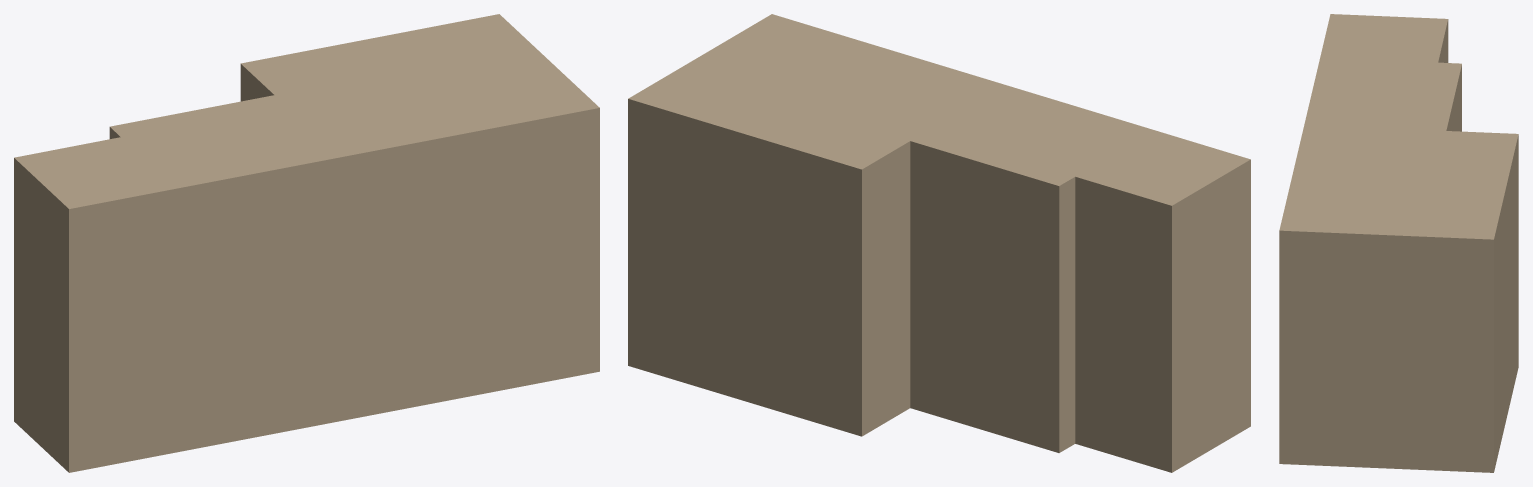
Rendered from bld_55879894.dae.
3 renders of one model, left to right at view 1: azimuth 30°, elevation 25°; view 2: azimuth 150°, elevation 25°; view 3: azimuth 270°, elevation 25°, orthographic. The views are drawn at different scales.
Visible parts, largest first — view 1: bld_55879894; view 2: bld_55879894; view 3: bld_55879894.
Part boxes in pixels (bbox=[...]): bld_55879894: bbox=[14, 14, 599, 472]; bld_55879894: bbox=[628, 14, 1250, 472]; bld_55879894: bbox=[1279, 14, 1518, 472].
Bounding box in the file's own units: 16.59 × 7.43 × 8.
